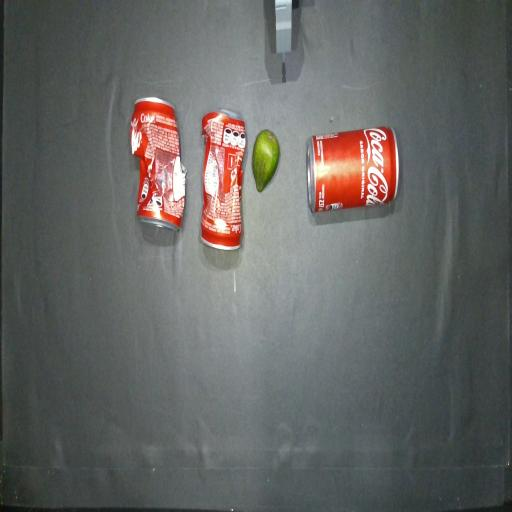higo: (252, 129, 280, 192)
lata: (307, 127, 399, 212)
lata_defectuoso: (130, 97, 186, 229), (200, 109, 246, 250)
